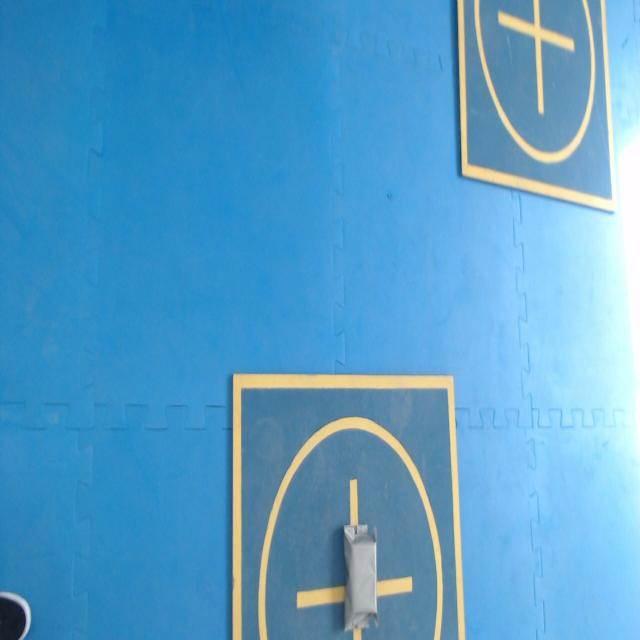lipo: (344, 524, 376, 635)
